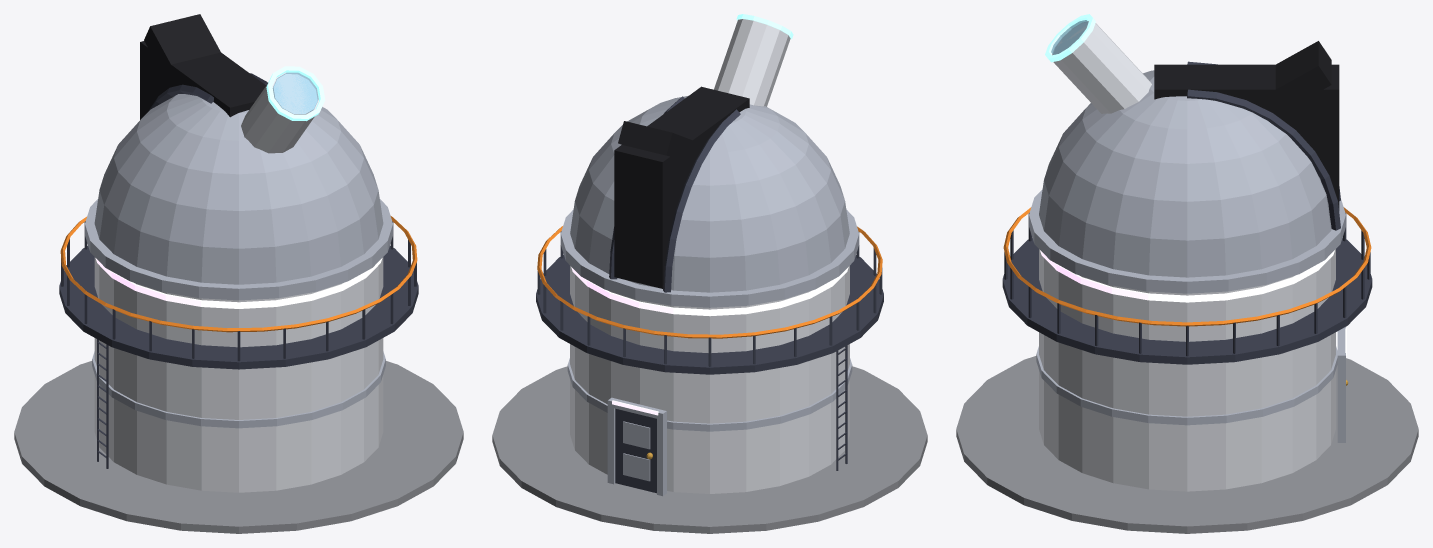
The model's file is Observatory.fbx.
The picture shows the model from 3 angles, left to right: view 1: azimuth 30°, elevation 25°; view 2: azimuth 150°, elevation 25°; view 3: azimuth 270°, elevation 25°; orthographic projection. The views are drawn at different scales.
Parts seen in each view (by area): view 1: Observatory_MoonPanel, Observatory_MoonWhite, Observatory_Grey, Observatory_MoonDark, Observatory_Black, Observatory_Orange, Observatory_NeonPurple, Observatory_Glass, Observatory_NeonCyan; view 2: Observatory_MoonWhite, Observatory_MoonPanel, Observatory_Grey, Observatory_MoonDark, Observatory_Black, Observatory_NeonPurple, Observatory_Orange; view 3: Observatory_MoonPanel, Observatory_MoonWhite, Observatory_Grey, Observatory_MoonDark, Observatory_Black, Observatory_Orange, Observatory_NeonPurple, Observatory_NeonCyan, Observatory_Glass.
Boxes of the visible parts, <box> form: Observatory_MoonPanel: <box>85,94,392,428</box>; Observatory_MoonWhite: <box>94,72,383,492</box>; Observatory_Grey: <box>14,361,463,533</box>; Observatory_MoonDark: <box>59,73,418,468</box>; Observatory_Black: <box>140,14,266,119</box>; Observatory_Orange: <box>60,216,417,332</box>; Observatory_NeonPurple: <box>95,258,382,308</box>; Observatory_Glass: <box>272,72,318,114</box>; Observatory_NeonCyan: <box>266,66,325,121</box>; Observatory_MoonWhite: <box>570,19,849,493</box>; Observatory_MoonPanel: <box>560,96,859,496</box>; Observatory_Grey: <box>492,366,927,533</box>; Observatory_MoonDark: <box>536,96,883,493</box>; Observatory_Black: <box>614,86,749,288</box>; Observatory_NeonPurple: <box>571,267,848,415</box>; Observatory_Orange: <box>537,226,882,338</box>; Observatory_MoonPanel: <box>1029,70,1345,442</box>; Observatory_MoonWhite: <box>1039,21,1335,491</box>; Observatory_Grey: <box>956,356,1418,533</box>; Observatory_MoonDark: <box>1002,61,1372,364</box>; Observatory_Black: <box>1154,41,1339,210</box>; Observatory_Orange: <box>1003,207,1371,326</box>; Observatory_NeonPurple: <box>1040,250,1346,355</box>; Observatory_NeonCyan: <box>1045,14,1095,62</box>; Observatory_Glass: <box>1051,20,1088,54</box>.
Bounding box in the file's own units: 28 × 27.94 × 28.
